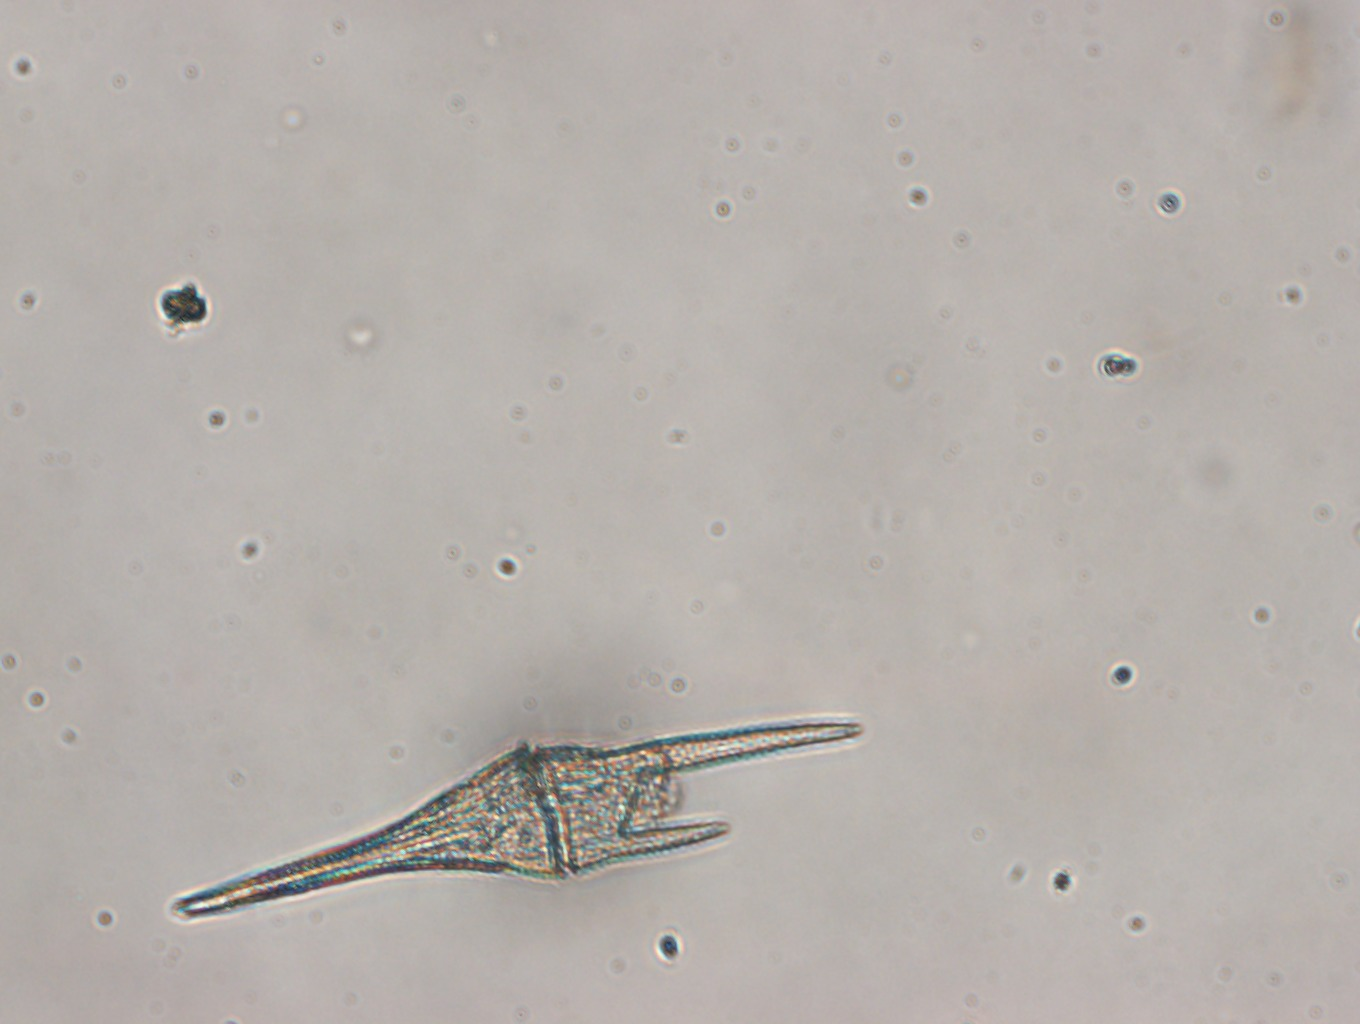ceratium furca: (170, 716, 864, 925)
